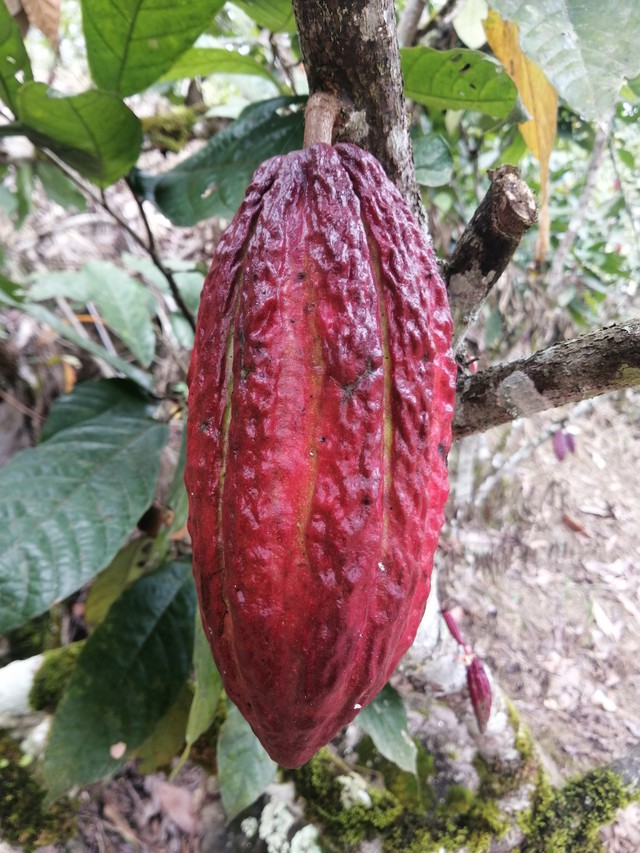Health: (165, 133, 466, 778)
